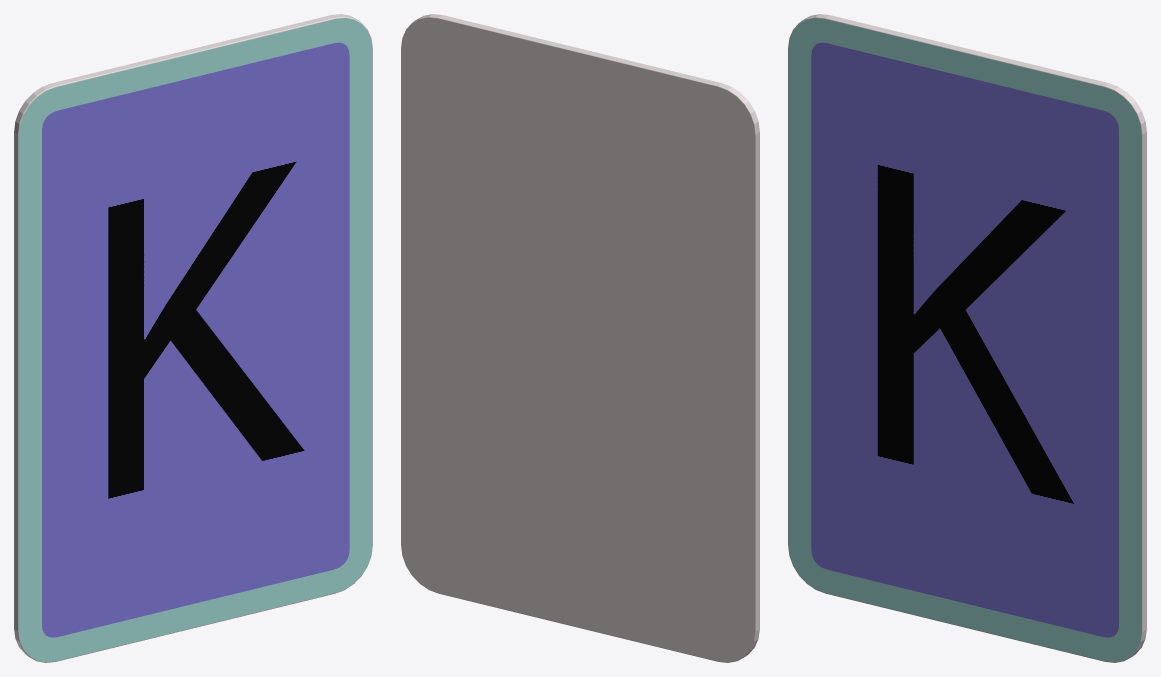
The model's file is Clubs_13.fbx.
The picture shows the model from 3 angles, left to right: view 1: azimuth 30°, elevation 25°; view 2: azimuth 150°, elevation 25°; view 3: azimuth 330°, elevation 25°; orthographic projection.
Parts seen in each view (by area): view 1: bleuking; view 2: bleuking; view 3: bleuking.
Boxes of the visible parts, x1,y1,x2,y2 form: bleuking: [14, 14, 372, 662]; bleuking: [401, 14, 759, 662]; bleuking: [788, 14, 1146, 662].
Bounding box in the file's own units: 200 × 310 × 4.34.
Materials: 3 (1 with a texture image).
